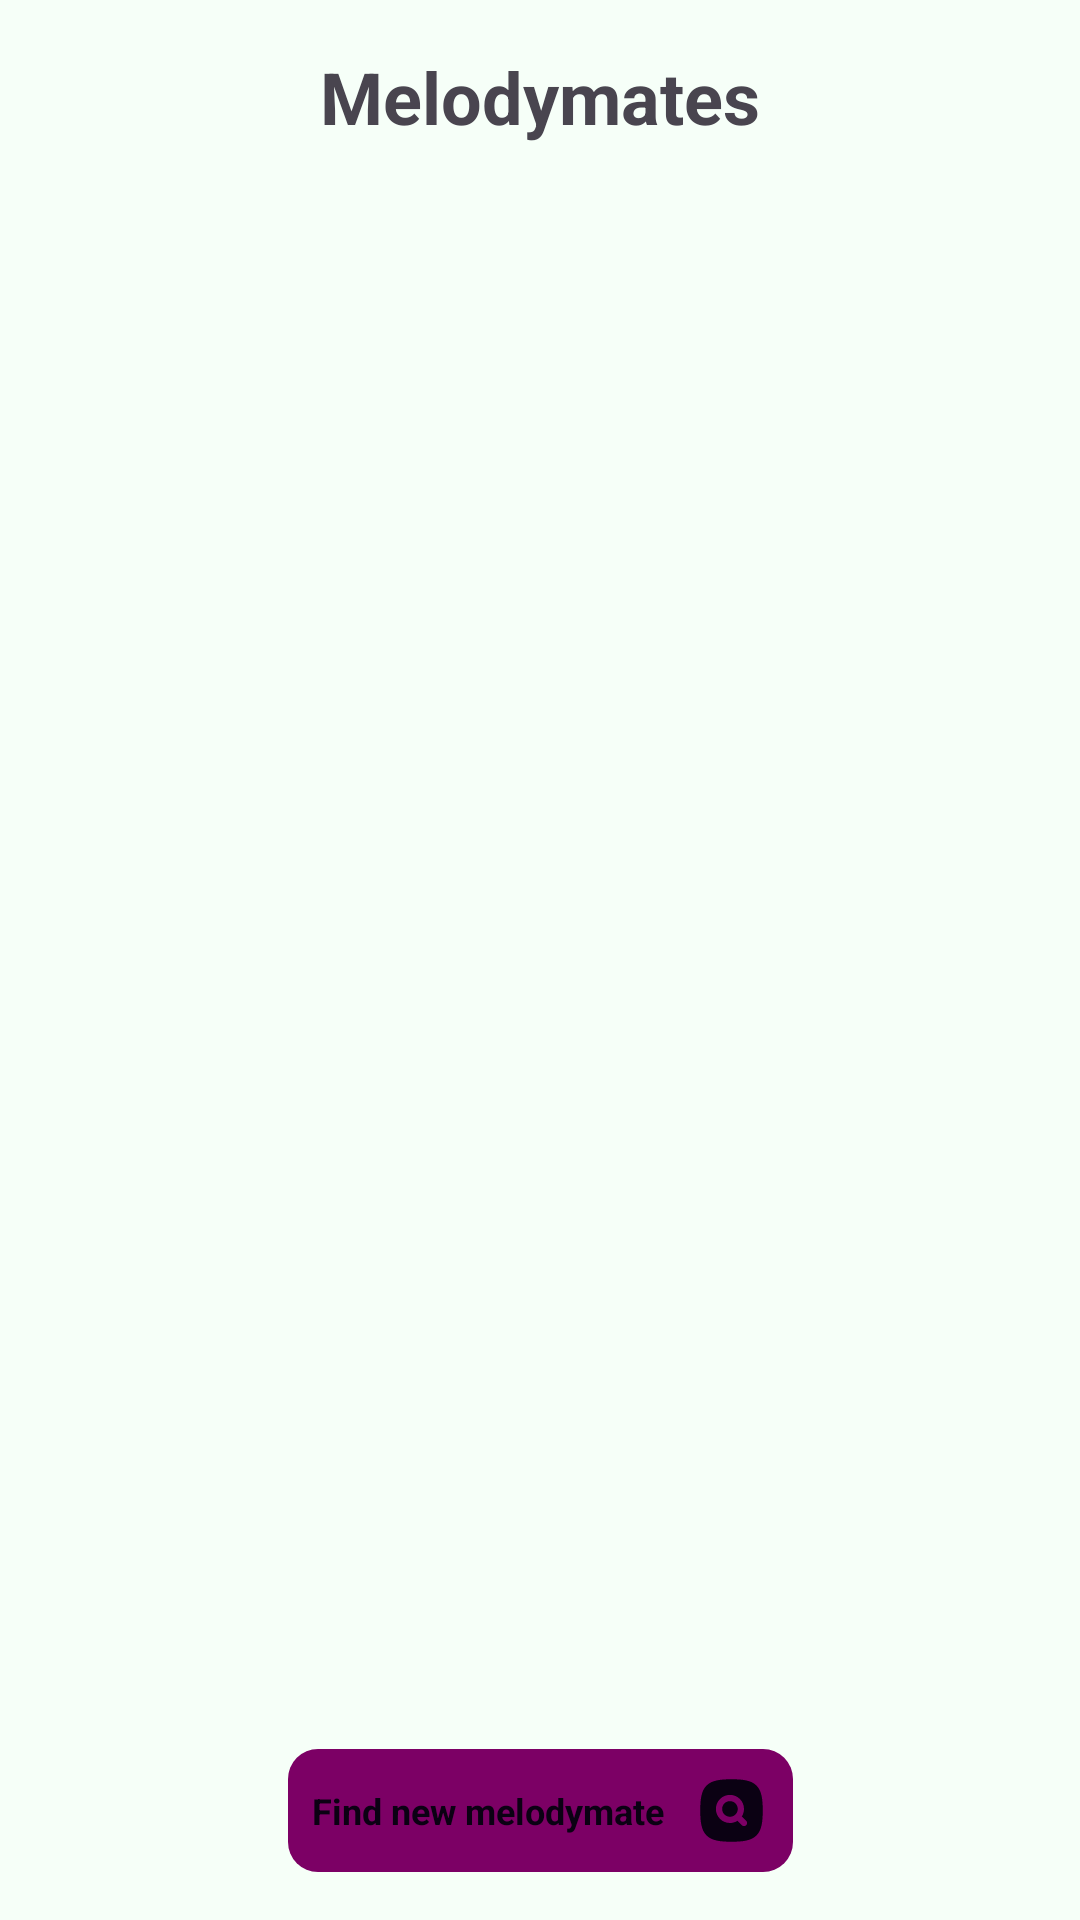

Locate icon controls on the screen. Image size 1080px×1920px, boxes as [x1,y1,x2,y2].
search square: [700,1779,763,1842]
